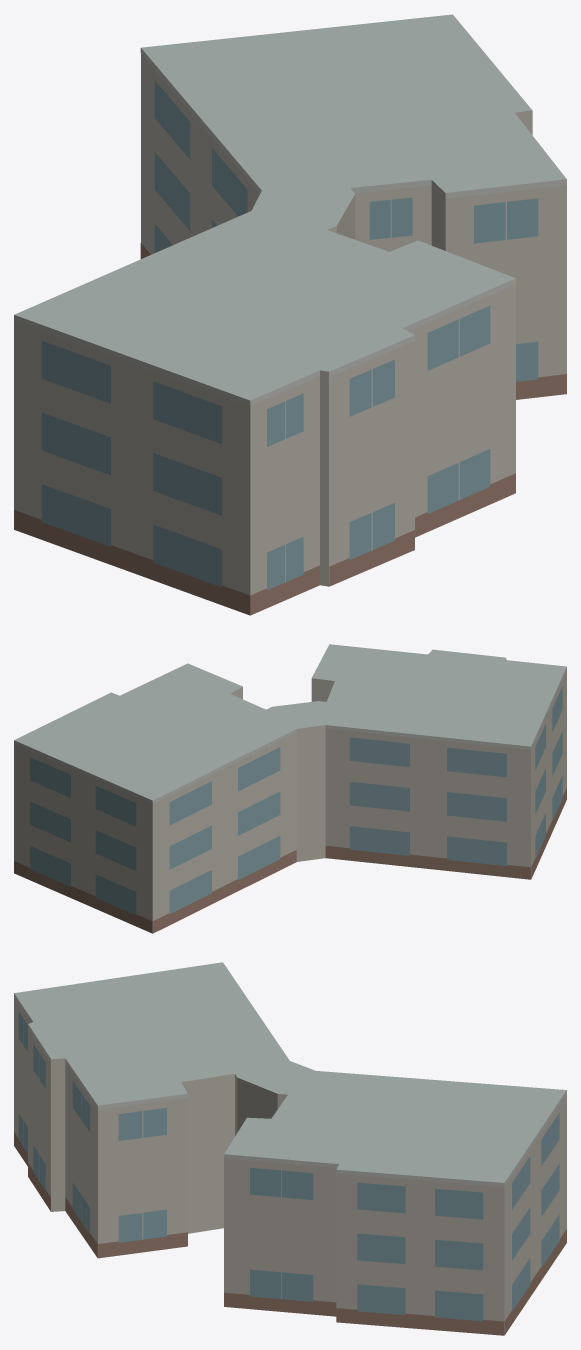
File: survey-upis-32525305.glb
3 views of the same model, one above another, from view 1: azimuth 30°, elevation 25°; view 2: azimuth 150°, elevation 25°; view 3: azimuth 270°, elevation 25° (orthographic). The views are drawn at different scales.
Visible parts, largest first — view 1: survey-upis-32525305.tmp; view 2: survey-upis-32525305.tmp; view 3: survey-upis-32525305.tmp.
Boxes of the visible parts, box(x1,y1,x2,y2) form: survey-upis-32525305.tmp: box(14, 14, 566, 615); survey-upis-32525305.tmp: box(14, 644, 566, 933); survey-upis-32525305.tmp: box(14, 962, 566, 1335).
Size of the model in its own units: 28.38 by 9.15 by 30.03.
